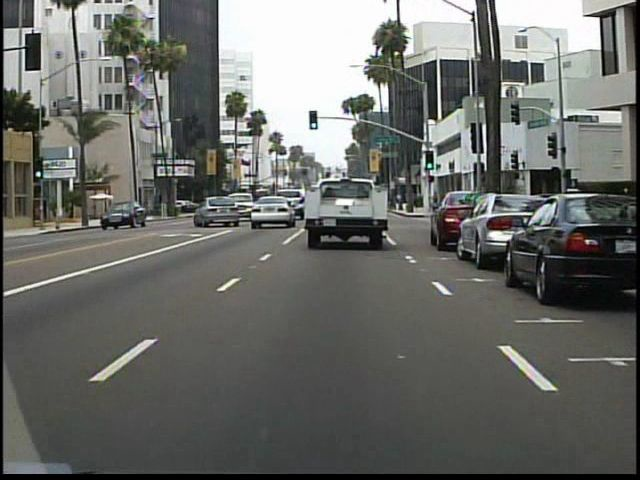person: (428, 188, 443, 217)
